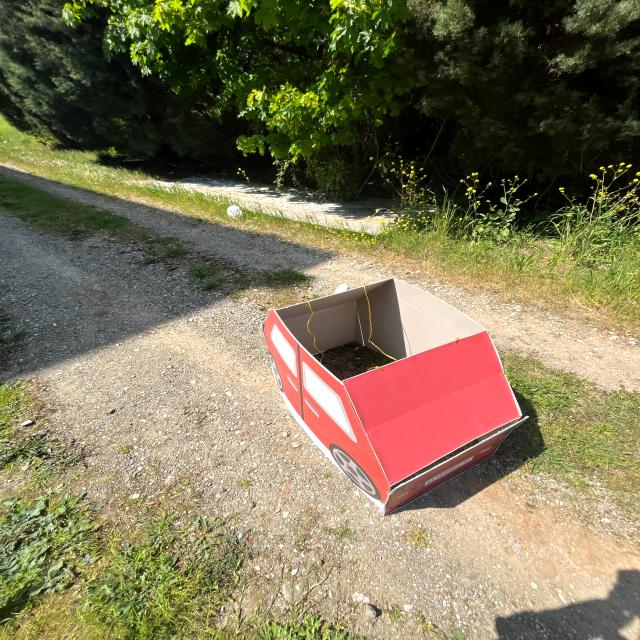red_car: (241, 269, 555, 537)
